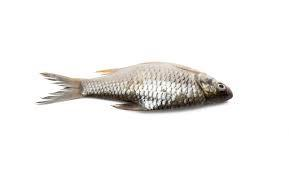Silver Barb: (38, 58, 233, 114)
